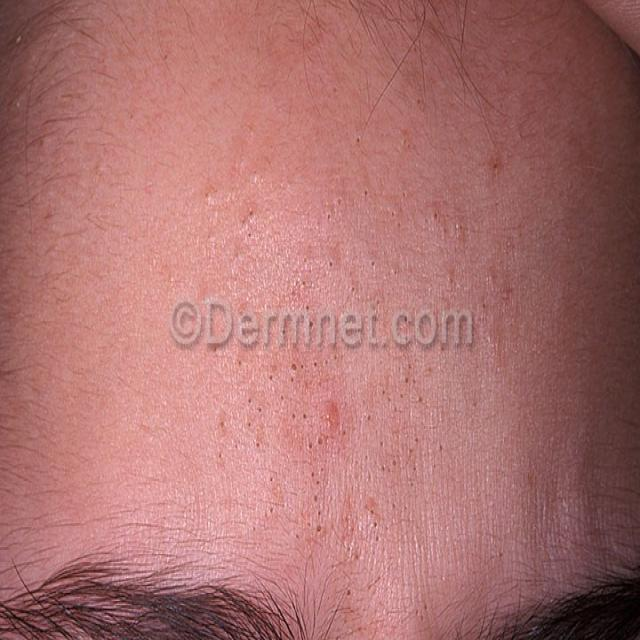blackhead: (402, 138, 412, 150), (408, 476, 414, 488), (404, 460, 418, 465), (357, 626, 367, 632), (127, 114, 134, 122), (381, 524, 389, 531), (373, 576, 380, 584), (220, 421, 227, 429), (291, 363, 297, 372), (316, 524, 322, 533), (355, 136, 361, 144), (248, 209, 254, 217), (336, 198, 342, 206), (401, 190, 407, 198), (380, 464, 386, 472), (391, 502, 397, 510), (372, 520, 378, 528), (414, 609, 420, 617), (419, 615, 425, 623), (203, 192, 210, 198), (240, 218, 247, 224), (326, 214, 332, 221), (363, 190, 369, 197), (317, 438, 323, 445), (438, 445, 444, 452), (492, 163, 498, 170), (333, 86, 338, 94), (417, 395, 422, 403), (328, 261, 334, 267), (350, 287, 356, 293), (370, 260, 376, 266), (163, 54, 169, 60), (391, 460, 397, 466), (412, 466, 418, 472), (433, 212, 438, 219), (324, 359, 329, 366), (375, 299, 380, 306), (459, 223, 464, 230), (404, 377, 409, 384), (405, 433, 410, 440), (499, 551, 504, 558), (314, 494, 318, 502), (442, 227, 446, 235), (247, 232, 252, 238), (302, 257, 307, 263), (305, 305, 310, 311), (237, 360, 242, 366), (247, 398, 252, 404), (416, 98, 421, 104), (381, 342, 386, 348), (412, 378, 417, 384), (403, 504, 408, 510), (346, 590, 351, 596), (367, 584, 372, 590), (440, 346, 445, 352), (472, 401, 477, 407), (391, 210, 395, 217), (398, 221, 402, 228), (309, 321, 313, 328), (342, 430, 346, 437), (432, 463, 436, 470), (375, 535, 379, 542), (313, 362, 318, 367), (308, 444, 313, 449), (354, 460, 359, 465), (302, 280, 306, 286), (282, 329, 286, 335), (269, 375, 273, 381), (290, 377, 294, 383), (280, 395, 284, 401), (256, 442, 260, 448), (316, 480, 320, 486), (270, 507, 274, 513), (264, 512, 268, 518), (252, 526, 256, 532), (308, 522, 312, 528), (367, 415, 371, 421), (373, 316, 377, 322), (449, 278, 453, 284), (404, 316, 408, 322), (381, 389, 385, 395), (399, 393, 403, 399), (408, 363, 412, 369), (380, 441, 384, 447), (396, 434, 400, 440), (387, 467, 391, 473), (346, 546, 350, 552), (354, 554, 358, 560), (351, 526, 355, 532), (334, 354, 337, 361), (213, 347, 217, 352), (300, 364, 304, 369), (248, 422, 252, 427), (218, 453, 222, 458), (310, 472, 314, 477), (295, 534, 299, 539), (387, 398, 391, 403), (414, 438, 419, 442), (409, 448, 413, 453), (364, 455, 368, 460), (482, 303, 486, 308), (292, 413, 295, 419), (303, 413, 306, 419), (318, 510, 321, 516), (394, 269, 397, 275), (424, 604, 427, 610), (258, 408, 262, 412), (234, 444, 238, 448), (370, 510, 374, 514), (335, 608, 339, 612), (350, 609, 354, 613), (495, 202, 499, 206), (270, 478, 273, 482), (321, 468, 324, 472)
